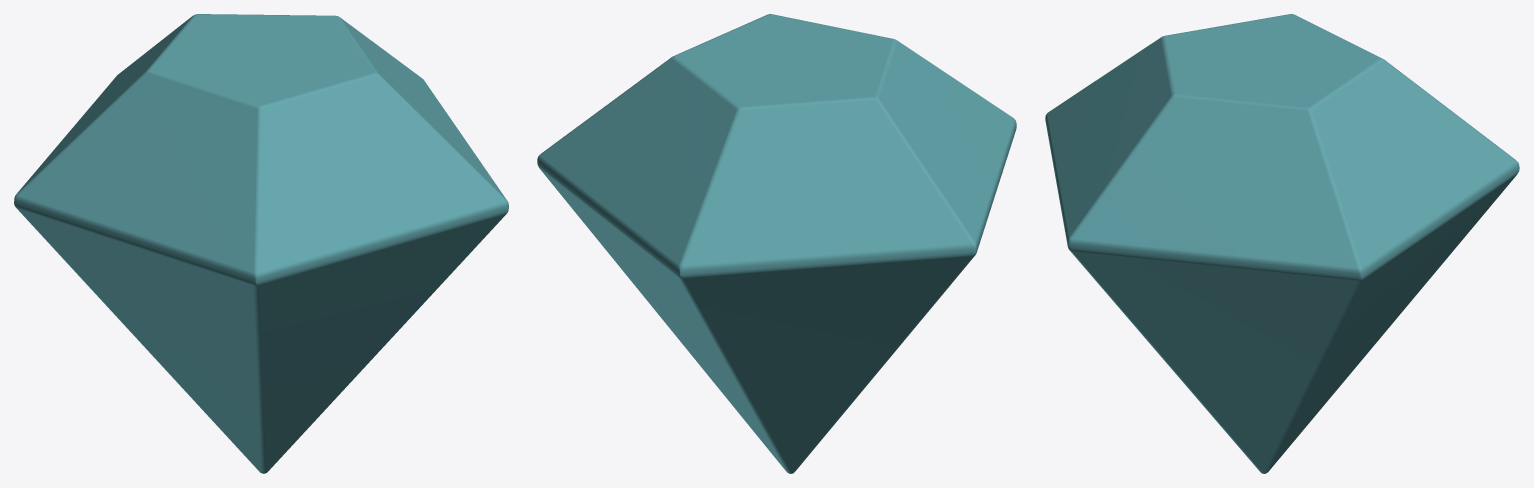
The model's file is Diamond.fbx.
3 views of the same model, side by side, from view 1: azimuth 30°, elevation 25°; view 2: azimuth 150°, elevation 25°; view 3: azimuth 270°, elevation 25° (orthographic).
Visible parts, largest first — view 1: Diamond; view 2: Diamond; view 3: Diamond.
Part boxes in pixels (x1=…): Diamond: x1=14, y1=14, x2=508, y2=473; Diamond: x1=537, y1=14, x2=1016, y2=473; Diamond: x1=1045, y1=14, x2=1519, y2=473.
Bounding box in the file's own units: 34.36 × 32.12 × 33.51.
